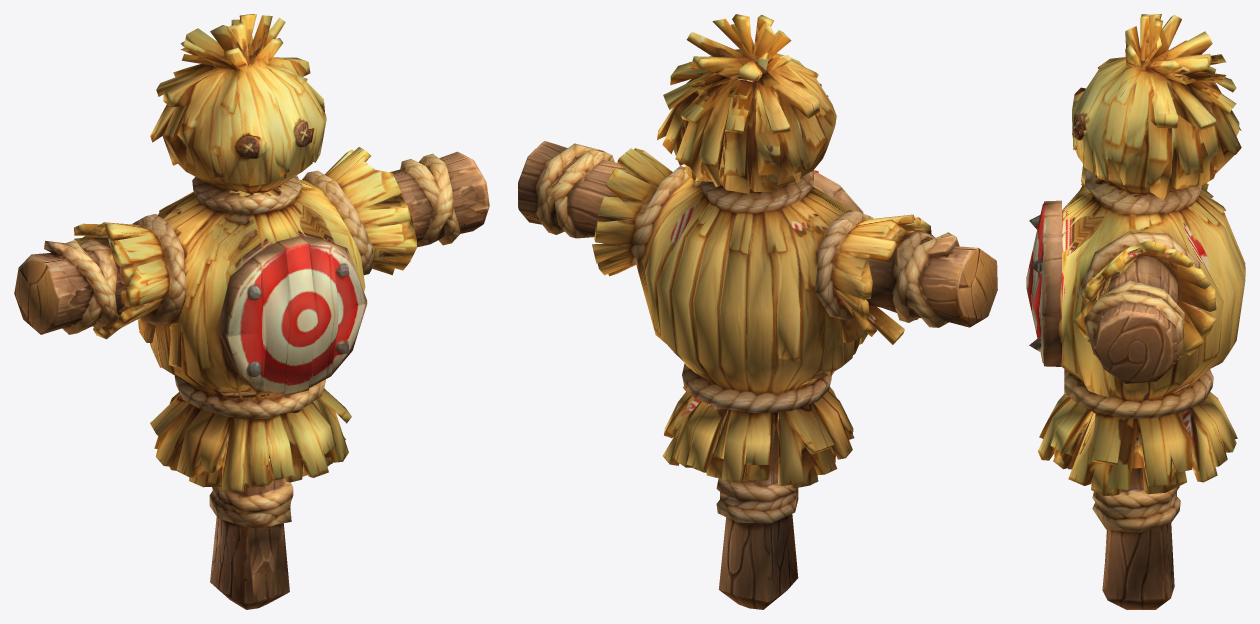
3 renders of one model, left to right at view 1: azimuth 30°, elevation 25°; view 2: azimuth 150°, elevation 25°; view 3: azimuth 270°, elevation 25°, orthographic.
Parts seen in each view (by area): view 1: tripo_node_8c67d1ac-f8dd-4c06-b490-918185c76532; view 2: tripo_node_8c67d1ac-f8dd-4c06-b490-918185c76532; view 3: tripo_node_8c67d1ac-f8dd-4c06-b490-918185c76532.
Part boxes in pixels (x1,y1,x2,y2): tripo_node_8c67d1ac-f8dd-4c06-b490-918185c76532: (14, 14, 489, 609); tripo_node_8c67d1ac-f8dd-4c06-b490-918185c76532: (518, 14, 997, 609); tripo_node_8c67d1ac-f8dd-4c06-b490-918185c76532: (1026, 14, 1245, 609).
Size of the model in its own units: 0.7723 by 0.9793 by 0.3315.
1 material, 1 textured.
